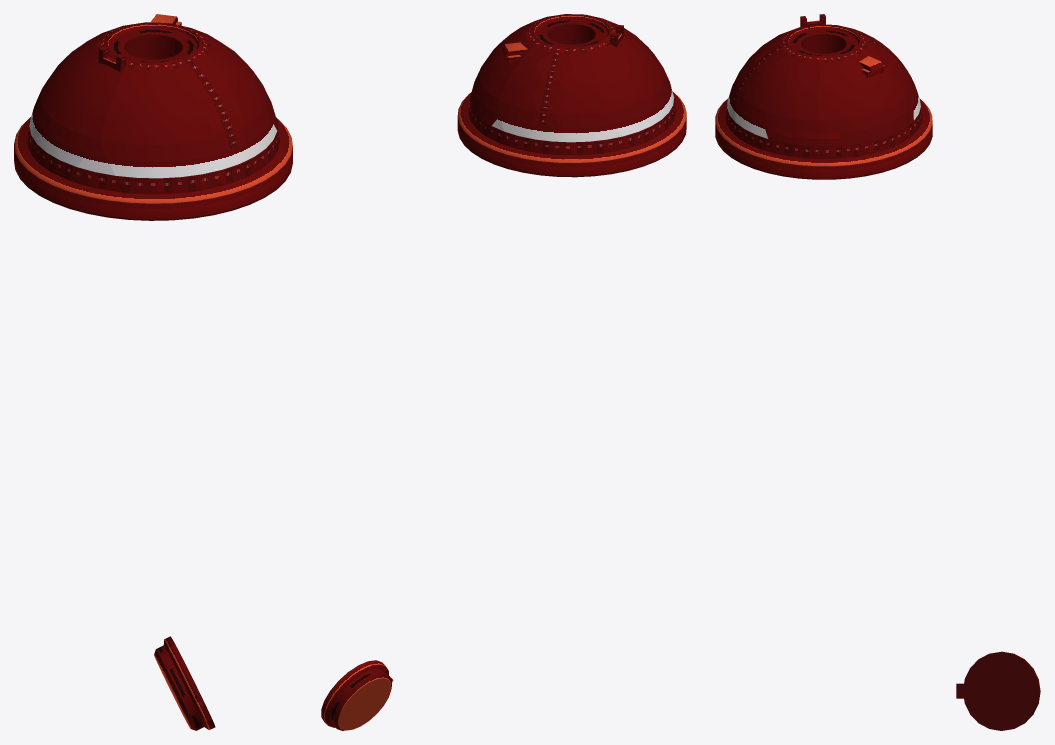
File: canon.FBX
3 views of the same model, side by side, from view 1: azimuth 30°, elevation 25°; view 2: azimuth 150°, elevation 25°; view 3: azimuth 270°, elevation 25° (orthographic). The views are drawn at different scales.
Visible parts, largest first — view 1: n0b0, n1b1; view 2: n0b0, n1b1; view 3: n0b0, n1b1.
Boxes of the visible parts, x1=… form: n0b0: x1=14, y1=14, x2=292, y2=220; n1b1: x1=154, y1=636, x2=215, y2=730; n0b0: x1=457, y1=14, x2=686, y2=177; n1b1: x1=321, y1=660, x2=393, y2=730; n0b0: x1=715, y1=14, x2=932, y2=179; n1b1: x1=956, y1=651, x2=1040, y2=730.
Bounding box in the file's own units: 317 × 833 × 388.
